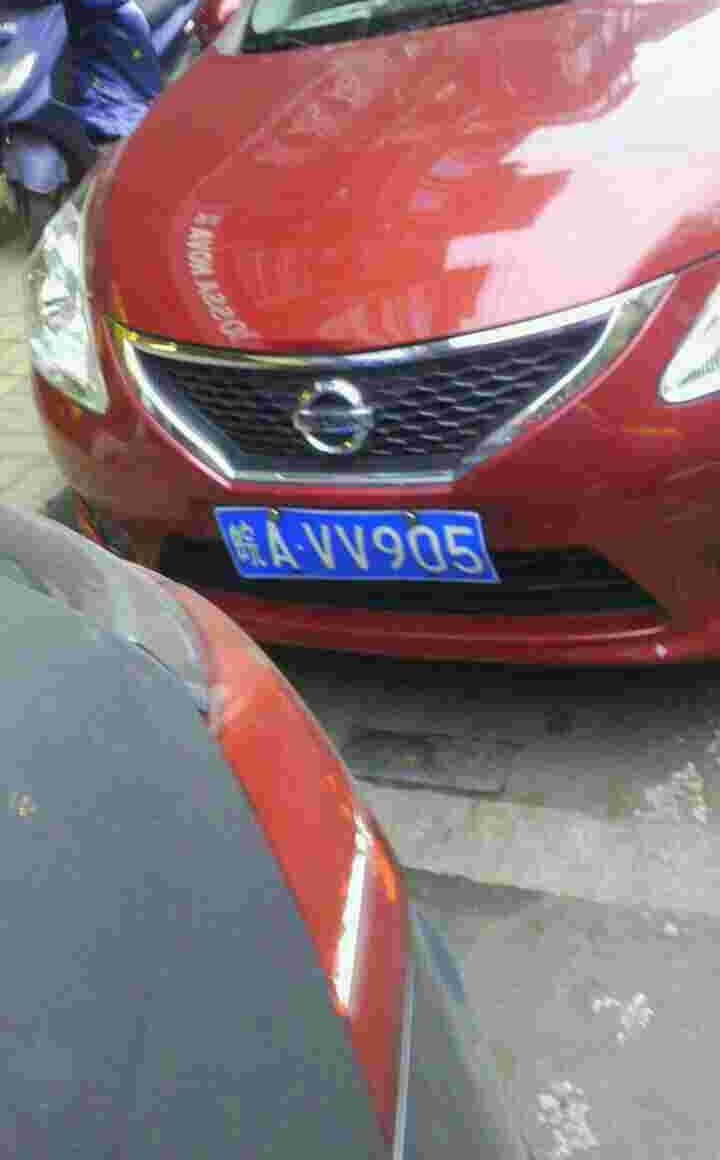car: (211, 508, 500, 586)
